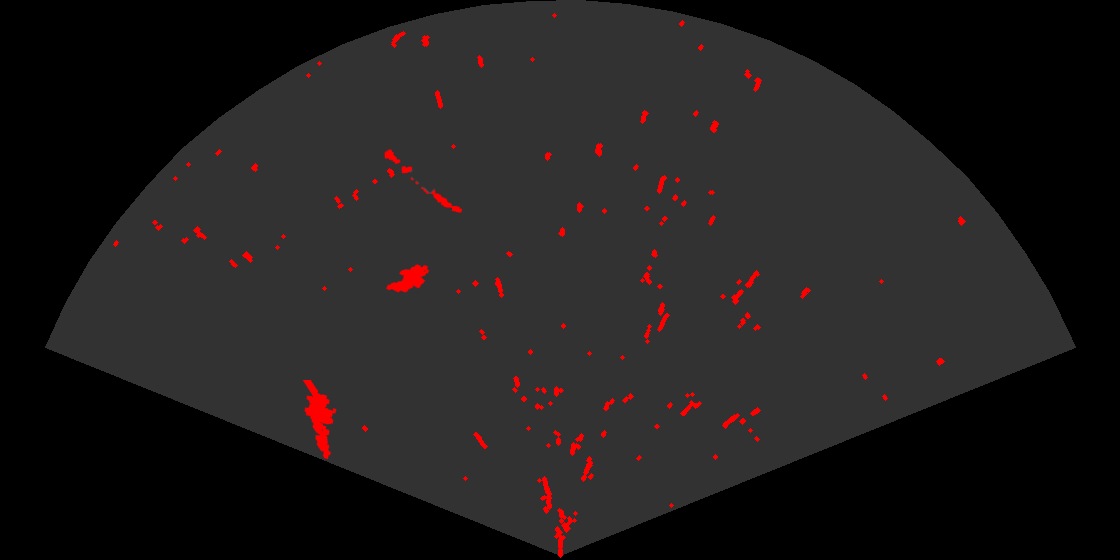AUV: (385, 263, 431, 294)
chain: (383, 148, 464, 214)
frogman: (301, 380, 338, 461)
